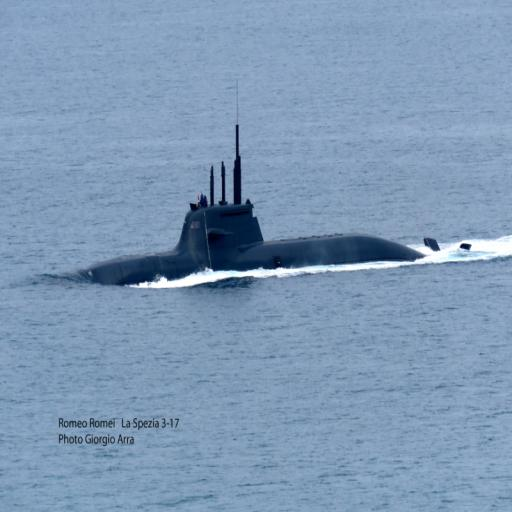submarine: (61, 112, 508, 303)
